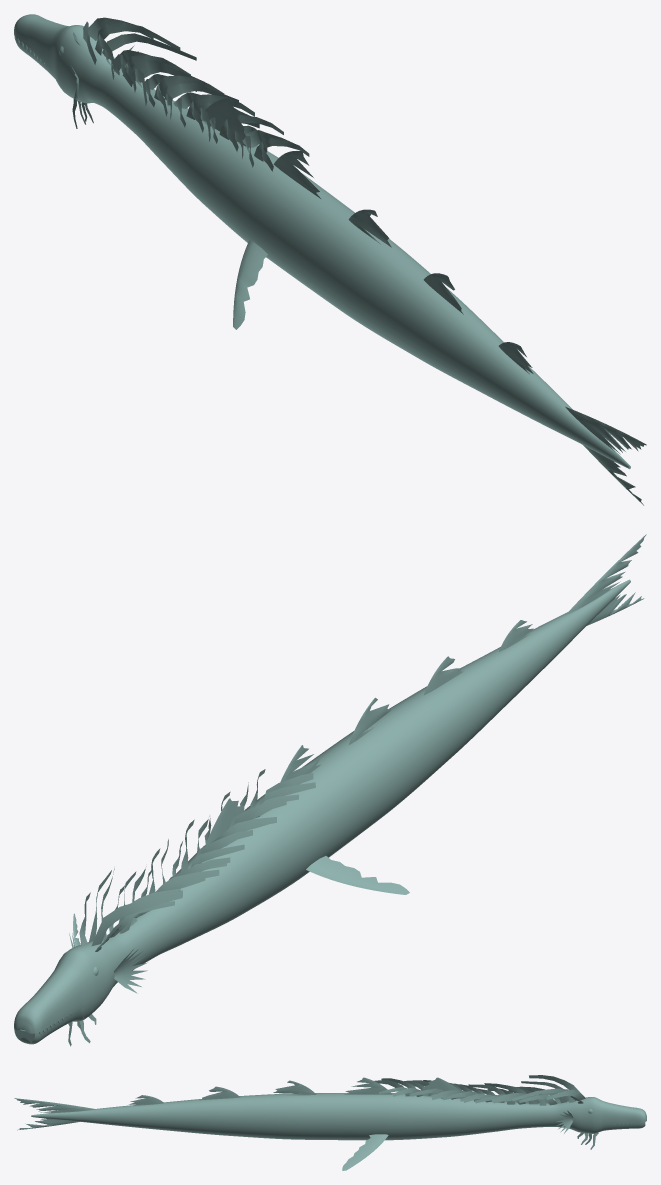
The model's file is sea_serpent.glb.
3 renders of one model, top to bottom at view 1: azimuth 30°, elevation 25°; view 2: azimuth 150°, elevation 25°; view 3: azimuth 270°, elevation 25°, orthographic. The views are drawn at different scales.
Visible parts, largest first — view 1: sea_serpent; view 2: sea_serpent; view 3: sea_serpent.
Part boxes in pixels (x1,y1,x2,y2): sea_serpent: (14, 14, 646, 505); sea_serpent: (14, 534, 646, 1046); sea_serpent: (14, 1075, 646, 1170).
Size of the model in its own units: 4.02 by 3.13 by 24.99.
